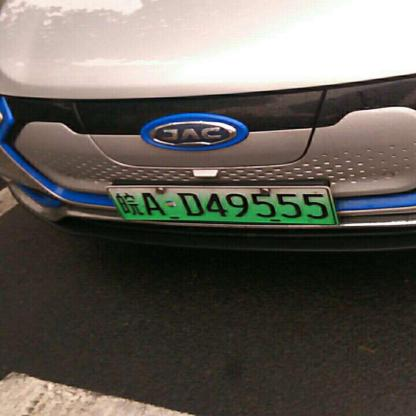lp: (108, 187, 336, 223)
